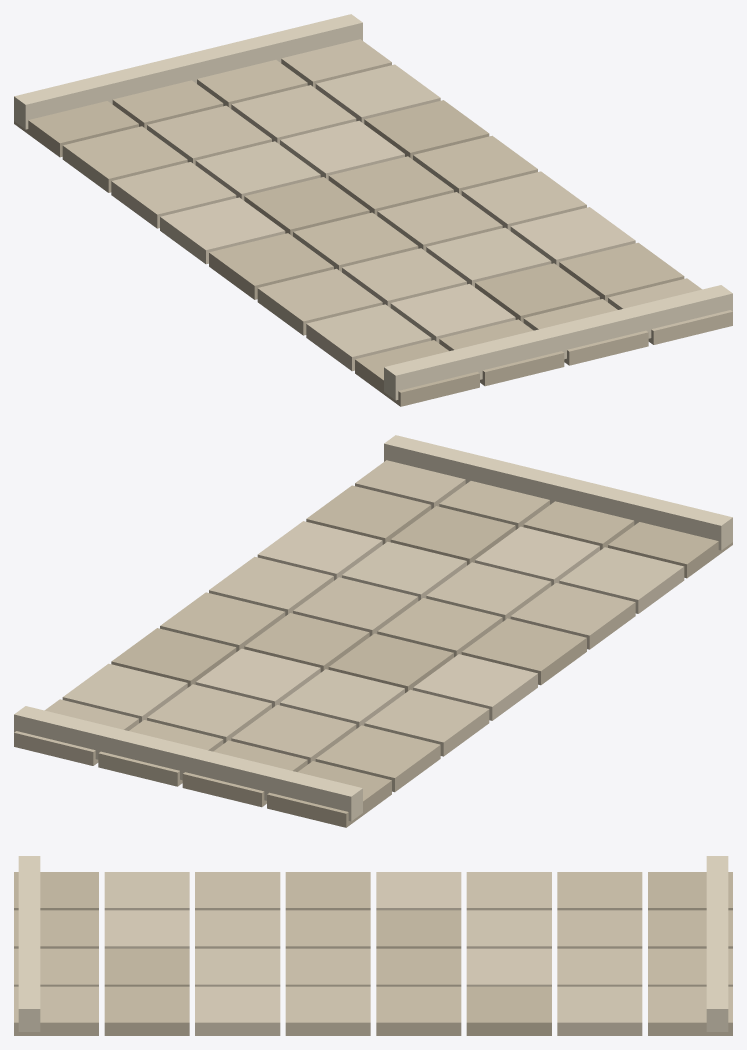
The picture shows the model from 3 angles, top to bottom: view 1: azimuth 30°, elevation 25°; view 2: azimuth 150°, elevation 25°; view 3: azimuth 270°, elevation 25°; orthographic projection. The views are drawn at different scales.
Visible parts, largest first — view 1: Bergfried – Steine, Säulen, Ziegel und Feuerstelle; view 2: Bergfried – Steine, Säulen, Ziegel und Feuerstelle; view 3: Bergfried – Steine, Säulen, Ziegel und Feuerstelle.
Boxes of the visible parts, x1,y1,x2,y2 form: Bergfried – Steine, Säulen, Ziegel und Feuerstelle: (14,14,732,406); Bergfried – Steine, Säulen, Ziegel und Feuerstelle: (14,435,732,827); Bergfried – Steine, Säulen, Ziegel und Feuerstelle: (14,856,732,1035).
Size of the model in its own units: 200 by 17 by 397.
